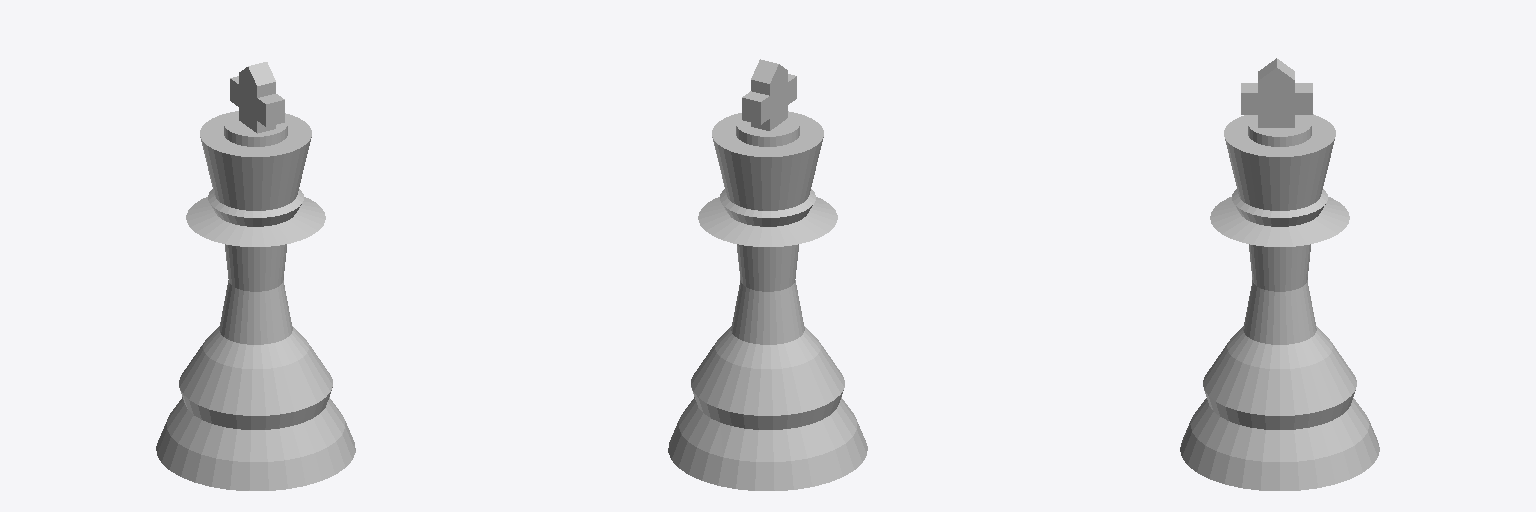
Rendered from king.obj.
The picture shows the model from 3 angles: view 1: azimuth 30°, elevation 25°; view 2: azimuth 150°, elevation 25°; view 3: azimuth 270°, elevation 25°; orthographic projection.
Visible parts, largest first — view 1: Cube.001; view 2: Cube.001; view 3: Cube.001.
Part boxes in pixels (x1,y1,x2,y2): Cube.001: (156,62,355,490); Cube.001: (668,59,867,490); Cube.001: (1180,58,1379,490).
Size of the model in its own units: 0.5815 by 1.24 by 0.5815.